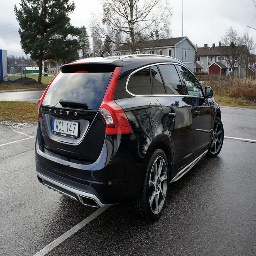sv_licence_plate: (52, 118, 80, 138)
